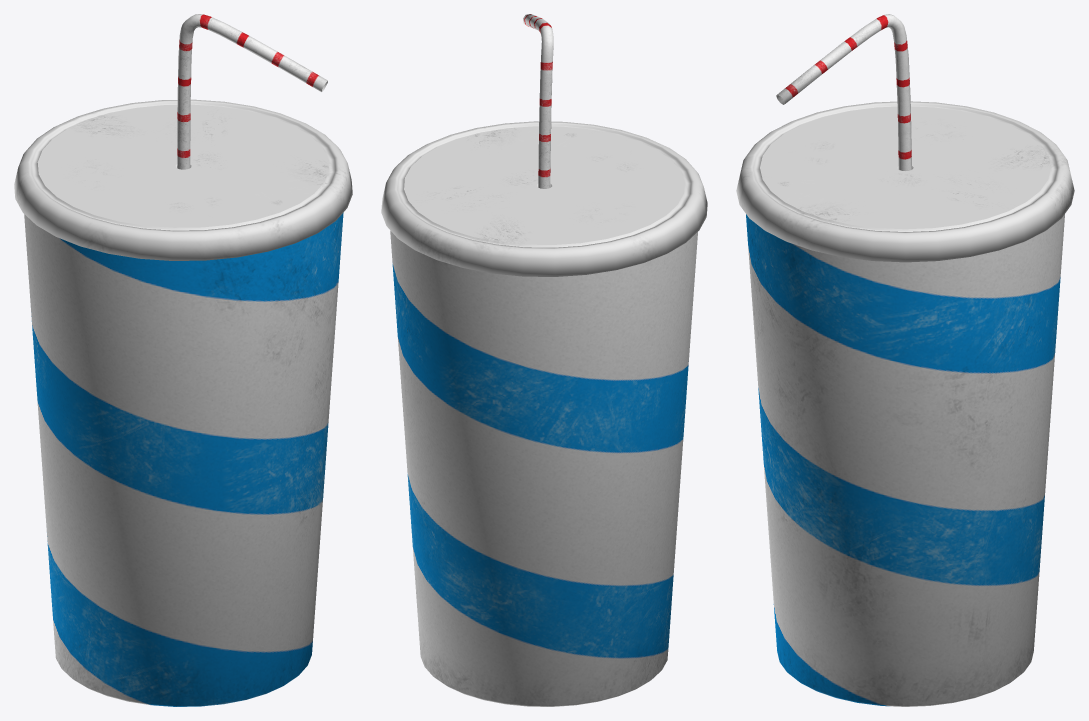
Rendered from fnaf_soda_cup.glb.
3 views of the same model, side by side, from view 1: azimuth 30°, elevation 25°; view 2: azimuth 150°, elevation 25°; view 3: azimuth 270°, elevation 25° (orthographic). The views are drawn at different scales.
Parts seen in each view (by area): view 1: Soda Cup; view 2: Soda Cup; view 3: Soda Cup.
Boxes of the visible parts, x1,y1,x2,y2 form: Soda Cup: (14,14,352,706); Soda Cup: (381,14,707,706); Soda Cup: (736,14,1074,706).
Size of the model in its own units: 0.6055 by 1.27 by 0.6055.
Materials: 1 (1 with a texture image).
